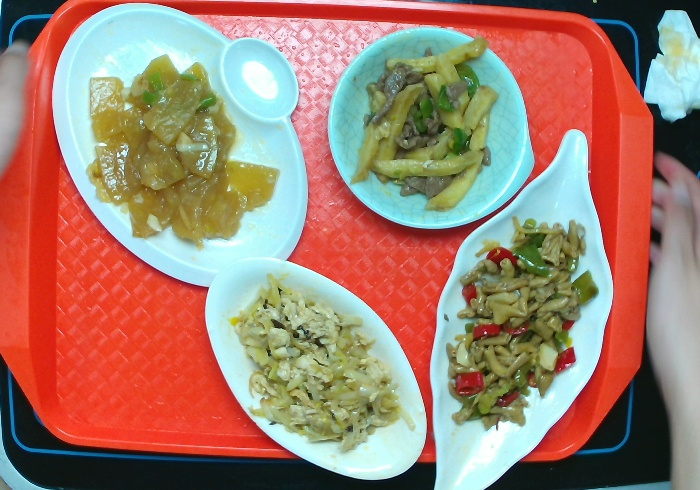RJxy-Bai_Se_Tuo_Yuan: (200, 254, 432, 483)
RJxy-Shu_Ye_Pan: (424, 126, 616, 490)
RJxy-Xiao_Jiao_Yuan_Wan: (318, 19, 539, 235)
RJxy-Zhan_Liao_Pan: (47, 1, 313, 292)
